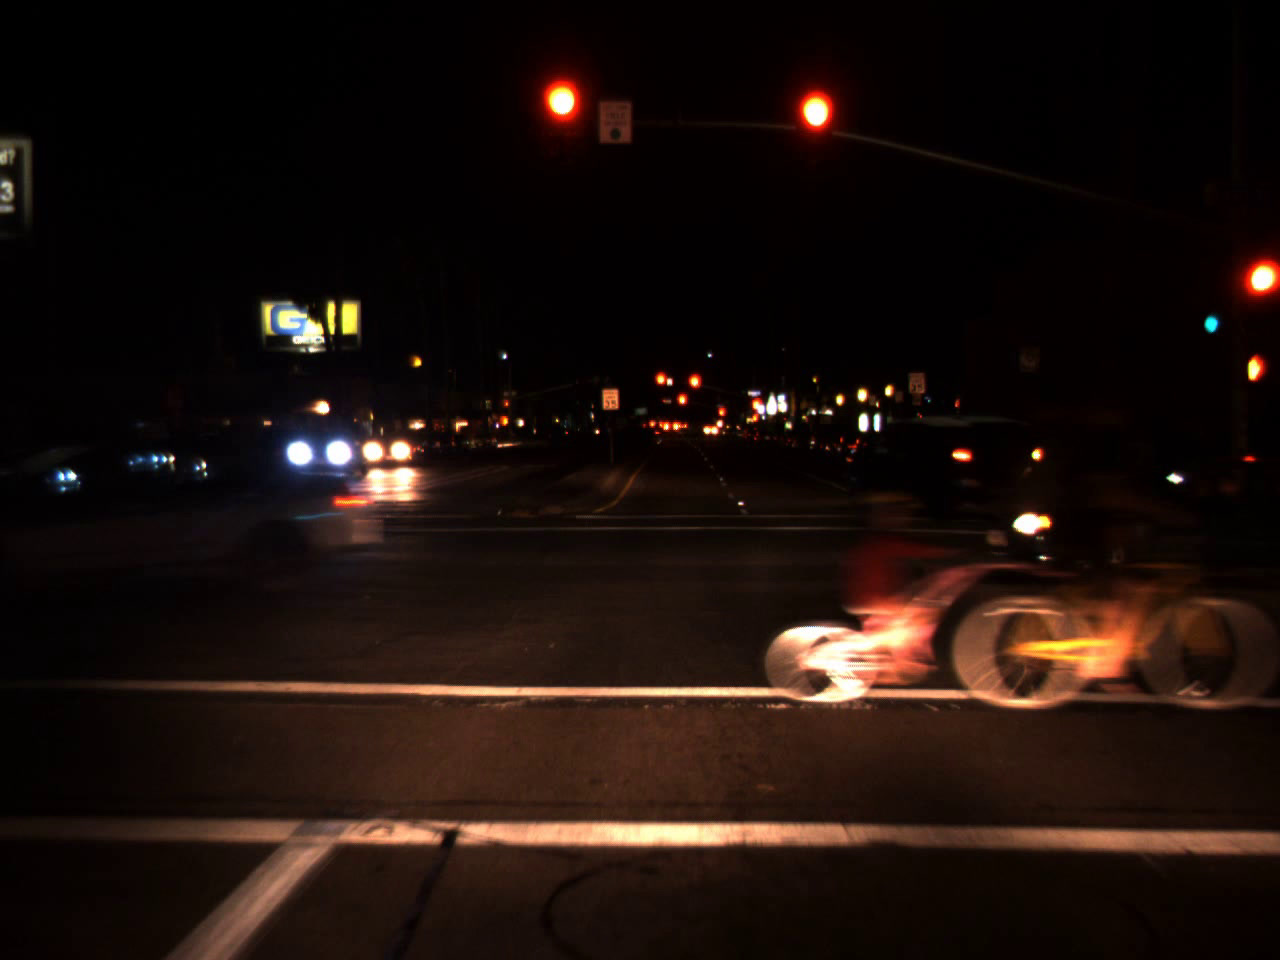stop: (542, 80, 581, 158), (798, 91, 834, 169), (1244, 261, 1277, 323), (686, 371, 702, 406), (653, 370, 671, 399), (675, 391, 688, 418), (750, 397, 760, 418), (717, 406, 726, 427)
